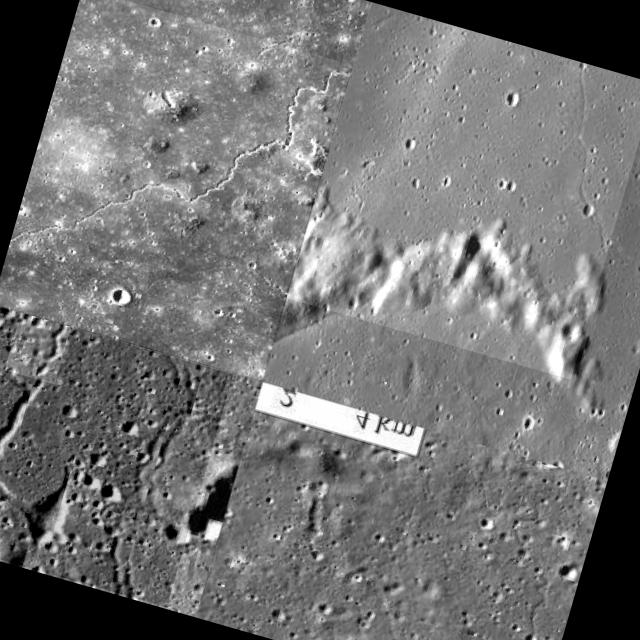rille: (286, 2, 640, 379), (0, 0, 351, 380), (0, 305, 232, 607), (416, 473, 597, 640), (0, 304, 120, 554), (134, 238, 242, 322), (4, 312, 70, 384)
